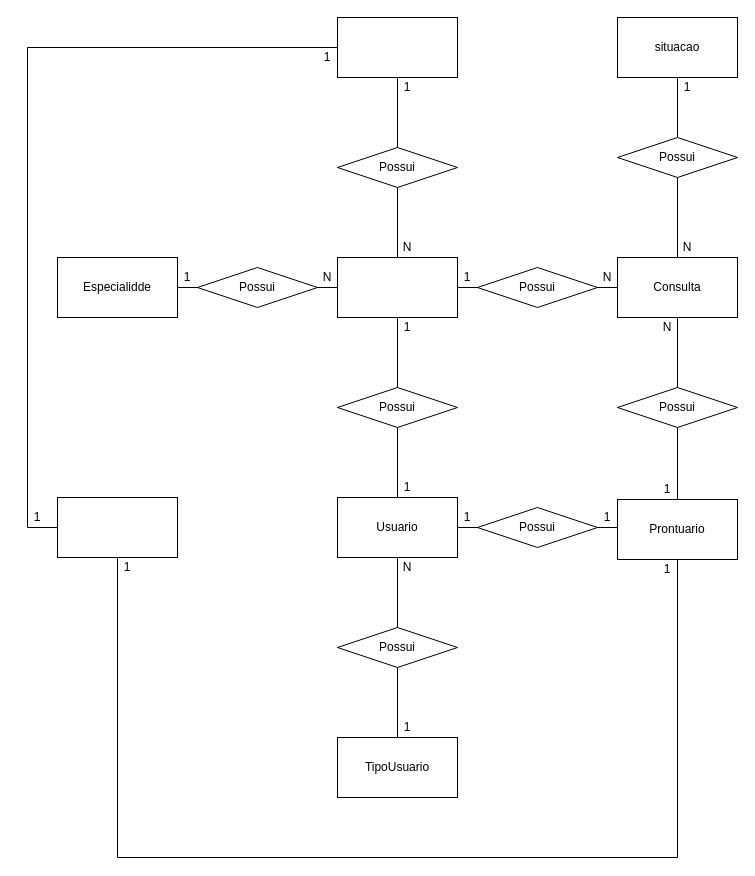
This 755x876 diagram has some shape labels left out. Each missing label, with the centre of its shape:
"Clinica" belongs at (x=397, y=47).
"Enderecos" belongs at (x=117, y=527).
"Medicos" belongs at (x=397, y=287).
